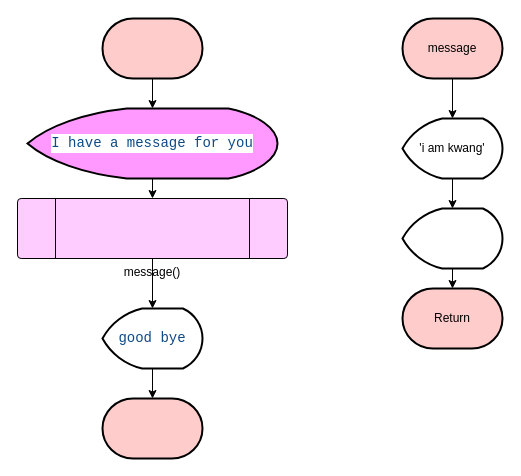
Image size: 521x476. Some labels were removed from this diagram. Here are the shapes that lost their labels. From the top down, the centre of each, then its label:
At point 152,48: "start".
At point 452,238: "king of the Britons'".
At point 152,428: "Stop".
